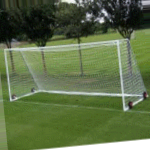goals: (4, 39, 147, 113)
